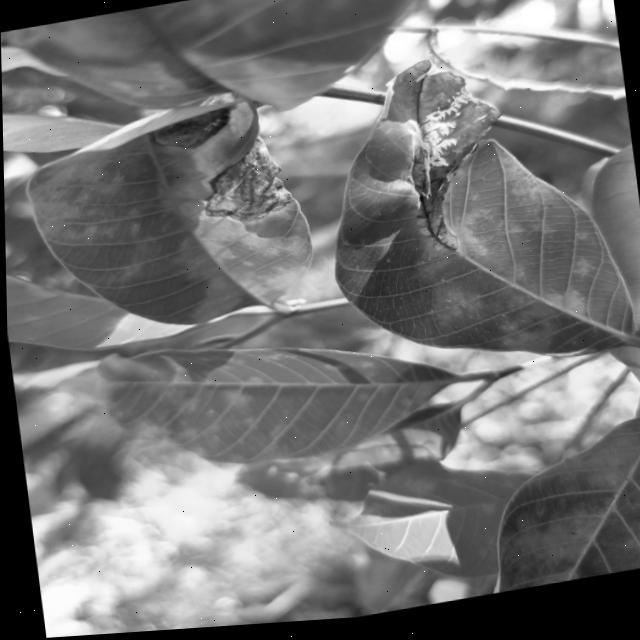Leaf-Blight: (381, 53, 516, 265), (194, 133, 296, 231), (147, 111, 233, 157), (199, 93, 238, 111)
